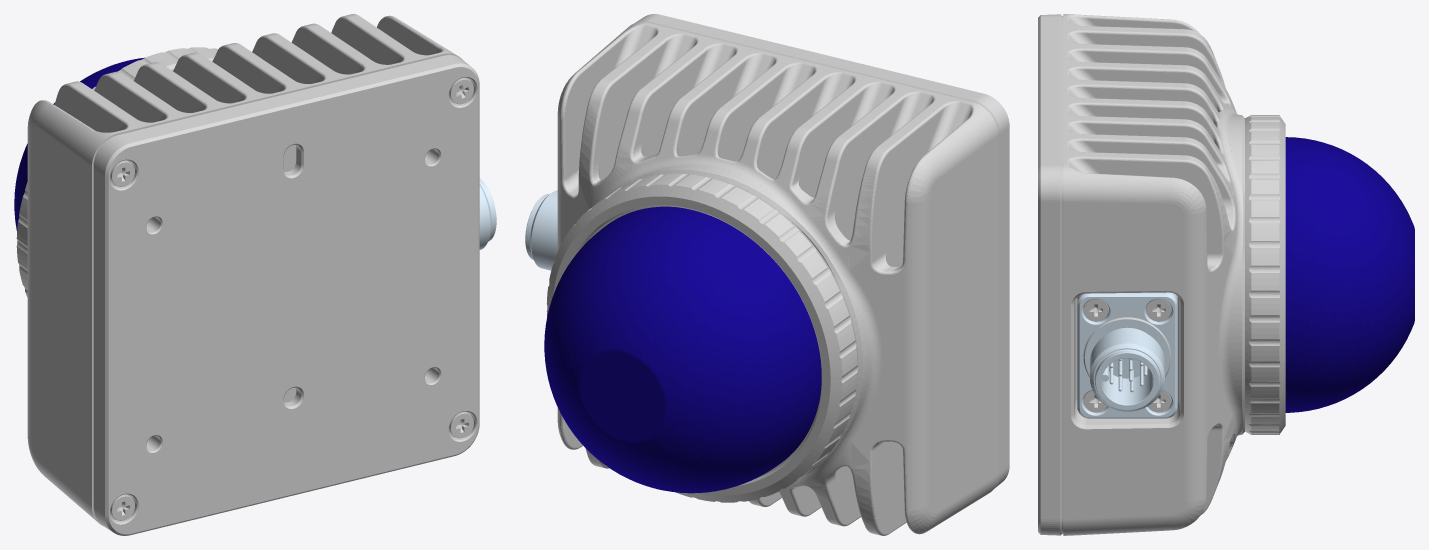
The model's file is livox_mid360.dae.
3 views of the same model, side by side, from view 1: azimuth 30°, elevation 25°; view 2: azimuth 150°, elevation 25°; view 3: azimuth 270°, elevation 25° (orthographic). The views are drawn at different scales.
Visible parts, largest first — view 1: node_a95fc441_d0b7_4bf2_af92_08d214d3e60f_mesh3, node_a95fc441_d0b7_4bf2_af92_08d214d3e60f_mesh0, node_a95fc441_d0b7_4bf2_af92_08d214d3e60f_mesh1, node_a95fc441_d0b7_4bf2_af92_08d214d3e60f_mesh2, node_a95fc441_d0b7_4bf2_af92_08d214d3e60f_mesh6, node_a95fc441_d0b7_4bf2_af92_08d214d3e60f_mesh5, node_a95fc441_d0b7_4bf2_af92_08d214d3e60f_mesh4; view 2: node_a95fc441_d0b7_4bf2_af92_08d214d3e60f_mesh0, node_a95fc441_d0b7_4bf2_af92_08d214d3e60f_mesh6, node_a95fc441_d0b7_4bf2_af92_08d214d3e60f_mesh1, node_a95fc441_d0b7_4bf2_af92_08d214d3e60f_mesh3, node_a95fc441_d0b7_4bf2_af92_08d214d3e60f_mesh5, node_a95fc441_d0b7_4bf2_af92_08d214d3e60f_mesh4; view 3: node_a95fc441_d0b7_4bf2_af92_08d214d3e60f_mesh0, node_a95fc441_d0b7_4bf2_af92_08d214d3e60f_mesh6, node_a95fc441_d0b7_4bf2_af92_08d214d3e60f_mesh3, node_a95fc441_d0b7_4bf2_af92_08d214d3e60f_mesh1, node_a95fc441_d0b7_4bf2_af92_08d214d3e60f_mesh5, node_a95fc441_d0b7_4bf2_af92_08d214d3e60f_mesh4, node_a95fc441_d0b7_4bf2_af92_08d214d3e60f_mesh2.
Boxes of the visible parts, box(x1,y1,x2,y2) form: node_a95fc441_d0b7_4bf2_af92_08d214d3e60f_mesh3: box(16, 47, 479, 535); node_a95fc441_d0b7_4bf2_af92_08d214d3e60f_mesh0: box(27, 14, 462, 525); node_a95fc441_d0b7_4bf2_af92_08d214d3e60f_mesh1: box(55, 19, 441, 132); node_a95fc441_d0b7_4bf2_af92_08d214d3e60f_mesh2: box(110, 77, 473, 520); node_a95fc441_d0b7_4bf2_af92_08d214d3e60f_mesh6: box(14, 57, 144, 230); node_a95fc441_d0b7_4bf2_af92_08d214d3e60f_mesh5: box(479, 178, 496, 249); node_a95fc441_d0b7_4bf2_af92_08d214d3e60f_mesh4: box(283, 143, 303, 408); node_a95fc441_d0b7_4bf2_af92_08d214d3e60f_mesh0: box(557, 22, 998, 534); node_a95fc441_d0b7_4bf2_af92_08d214d3e60f_mesh6: box(544, 206, 821, 493); node_a95fc441_d0b7_4bf2_af92_08d214d3e60f_mesh1: box(565, 24, 961, 535); node_a95fc441_d0b7_4bf2_af92_08d214d3e60f_mesh3: box(546, 14, 1009, 519); node_a95fc441_d0b7_4bf2_af92_08d214d3e60f_mesh5: box(525, 190, 557, 270); node_a95fc441_d0b7_4bf2_af92_08d214d3e60f_mesh4: box(588, 21, 999, 489); node_a95fc441_d0b7_4bf2_af92_08d214d3e60f_mesh0: box(1063, 14, 1241, 535); node_a95fc441_d0b7_4bf2_af92_08d214d3e60f_mesh6: box(1285, 137, 1414, 412); node_a95fc441_d0b7_4bf2_af92_08d214d3e60f_mesh3: box(1038, 14, 1285, 535); node_a95fc441_d0b7_4bf2_af92_08d214d3e60f_mesh1: box(1067, 20, 1244, 435); node_a95fc441_d0b7_4bf2_af92_08d214d3e60f_mesh5: box(1077, 292, 1177, 418); node_a95fc441_d0b7_4bf2_af92_08d214d3e60f_mesh4: box(1060, 14, 1171, 535); node_a95fc441_d0b7_4bf2_af92_08d214d3e60f_mesh2: box(1146, 299, 1171, 321).
Size of the model in its own units: 72.74 by 60.1 by 64.87.
